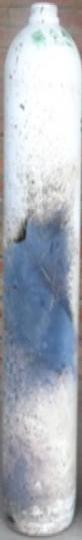cylinder: (1, 1, 82, 540)
